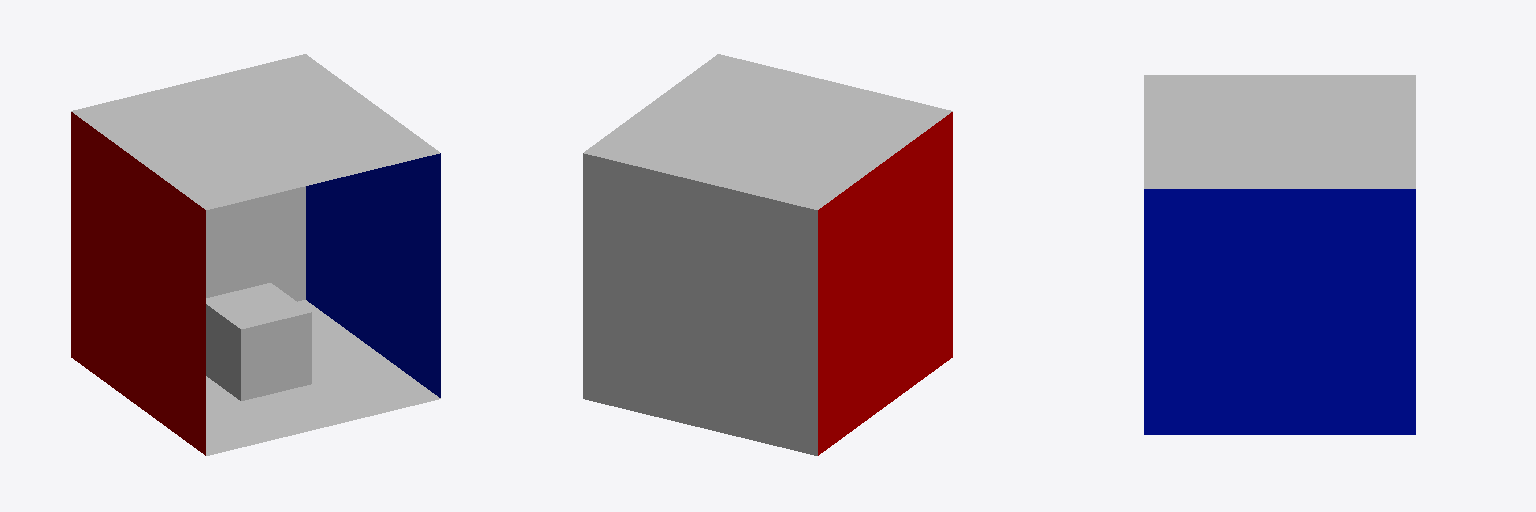
The model's file is single-box-white.obj.
The picture shows the model from 3 angles: view 1: azimuth 30°, elevation 25°; view 2: azimuth 150°, elevation 25°; view 3: azimuth 270°, elevation 25°; orthographic projection.
Visible parts, largest first — view 1: Walls, Box_small; view 2: Walls; view 3: Walls.
Part boxes in pixels (left/top/right/bottom): Walls: left=71, top=54, right=440, bottom=455; Box_small: left=206, top=283, right=311, bottom=400; Walls: left=583, top=54, right=952, bottom=455; Walls: left=1144, top=75, right=1415, bottom=434.
Size of the model in its own units: 2 by 2.02 by 2.